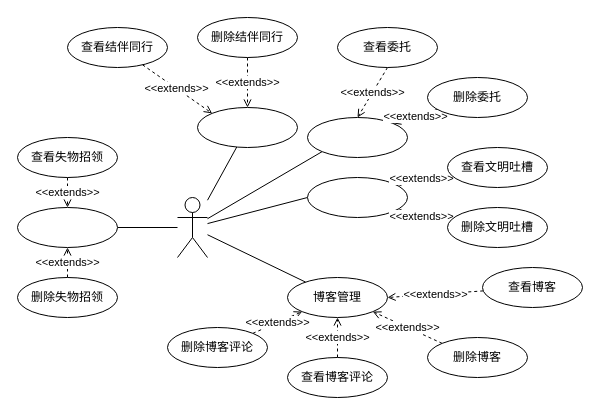
Image size: 600x415. Some labels were removed from this diagram. The box of each missing label's shape, as (x1, y1, x2, y2) in pixels:
失物招领管理: (16, 206, 118, 248)
委托管理: (306, 116, 408, 158)
文明吐槽管理: (306, 176, 408, 218)
管理员: (176, 196, 208, 258)
结伴同行管理: (196, 106, 298, 148)
